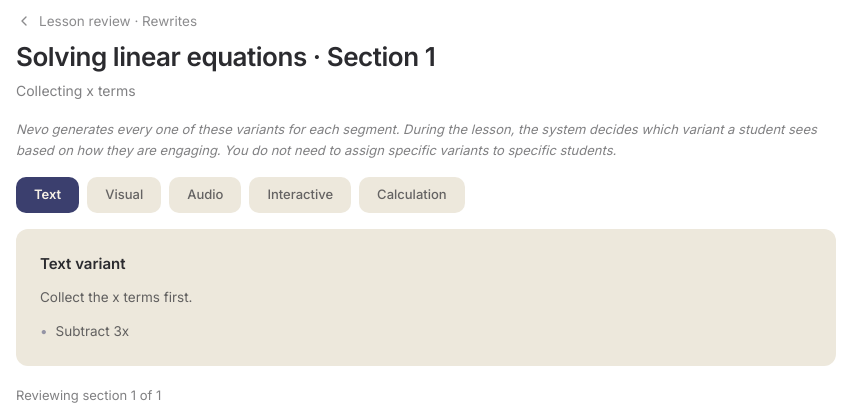
it: a signed-in teacher's own lesson › says so when a section has no worked steps at all
Click the tab "Calculation". click: [412, 195]
box: [359,177,465,213]
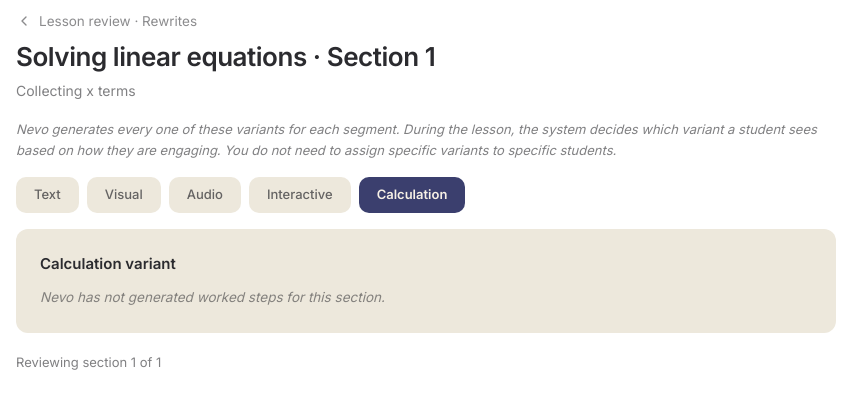
Now the text "Nevo has not generated worked steps for this section." is shown, box [40,289,385,305]
